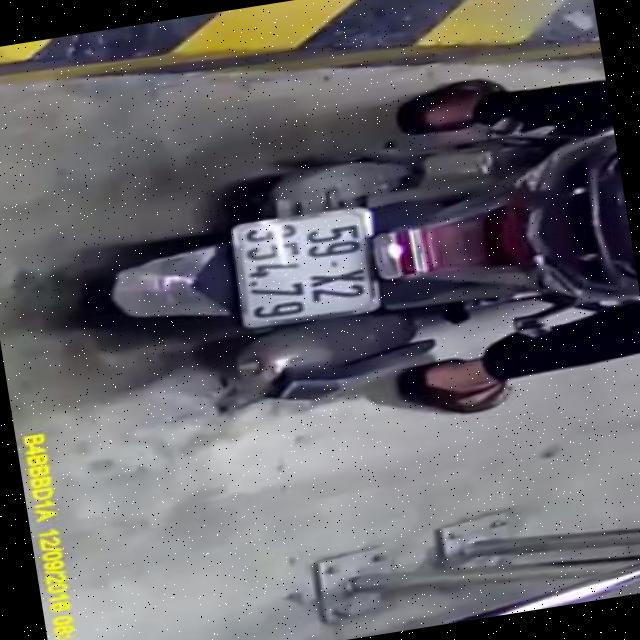license_plate: (227, 203, 383, 332)
